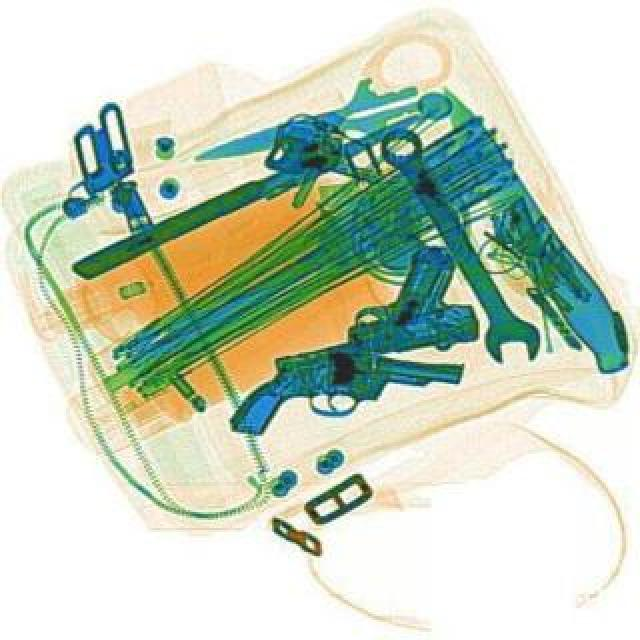gun: (252, 238, 480, 378), (228, 340, 462, 452)
knife: (424, 72, 636, 376), (66, 104, 422, 282), (180, 66, 426, 186)
scissors: (364, 116, 548, 374)
